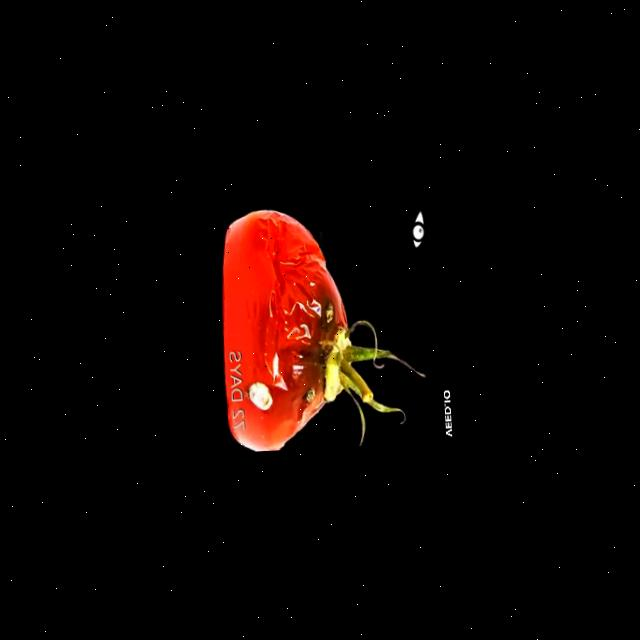tomato: (214, 204, 390, 453)
